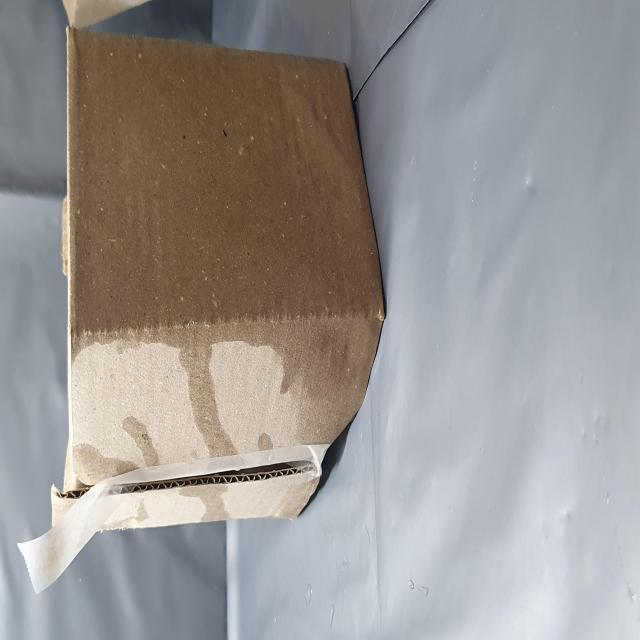wet: (102, 118, 343, 640)
